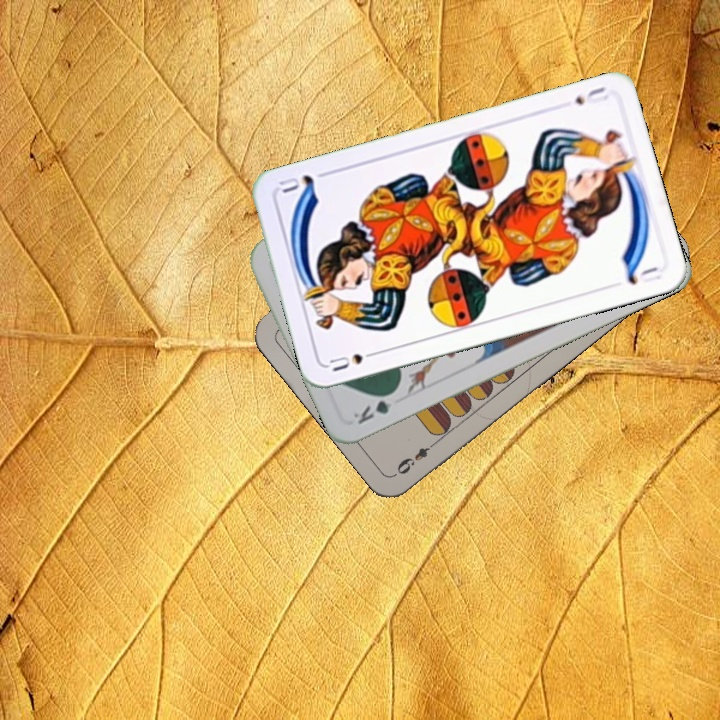E9: (391, 436, 441, 478)
GK: (349, 386, 400, 427)
SU: (325, 346, 383, 374), (571, 82, 611, 108)
